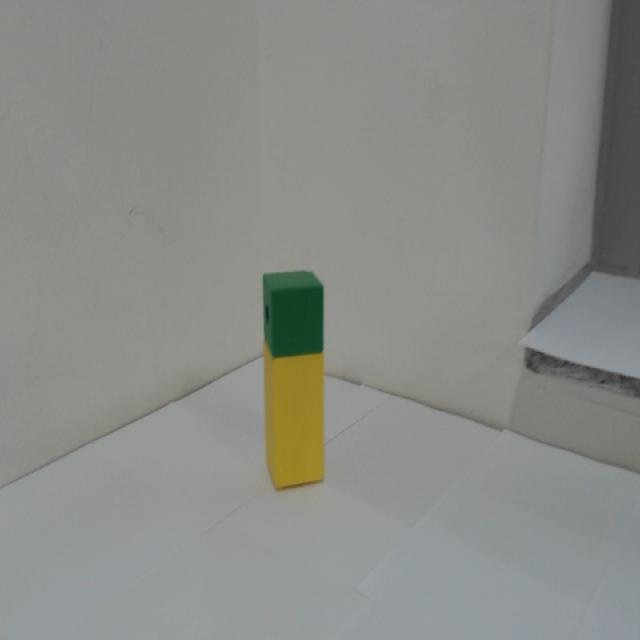cube: (262, 270, 323, 357)
